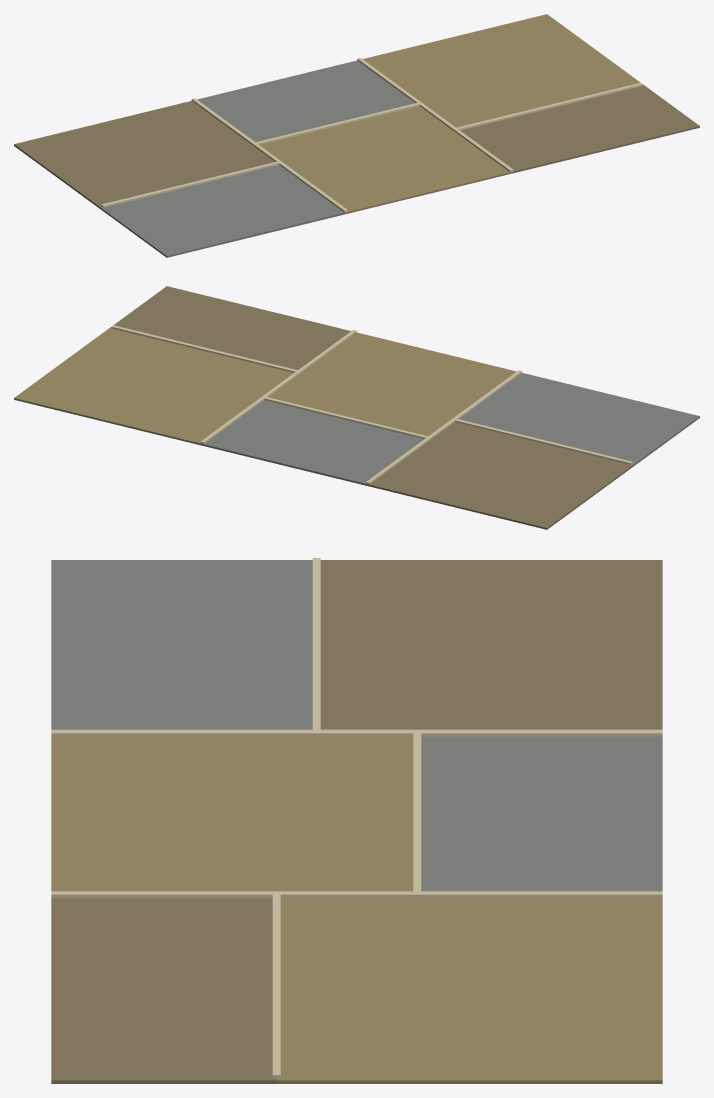
File: sheet_canvas_patchwork.glb
3 renders of one model, top to bottom at view 1: azimuth 30°, elevation 25°; view 2: azimuth 150°, elevation 25°; view 3: azimuth 270°, elevation 25°, orthographic. The views are drawn at different scales.
Visible parts, largest first — view 1: sheet_canvas_patchwork:compound; view 2: sheet_canvas_patchwork:compound; view 3: sheet_canvas_patchwork:compound.
Part boxes in pixels (left/top/right/bottom): sheet_canvas_patchwork:compound: left=14, top=14, right=699, bottom=257; sheet_canvas_patchwork:compound: left=14, top=286, right=699, bottom=529; sheet_canvas_patchwork:compound: left=51, top=558, right=662, bottom=1083.
Size of the model in its own units: 0.612 by 0.004 by 0.304.
